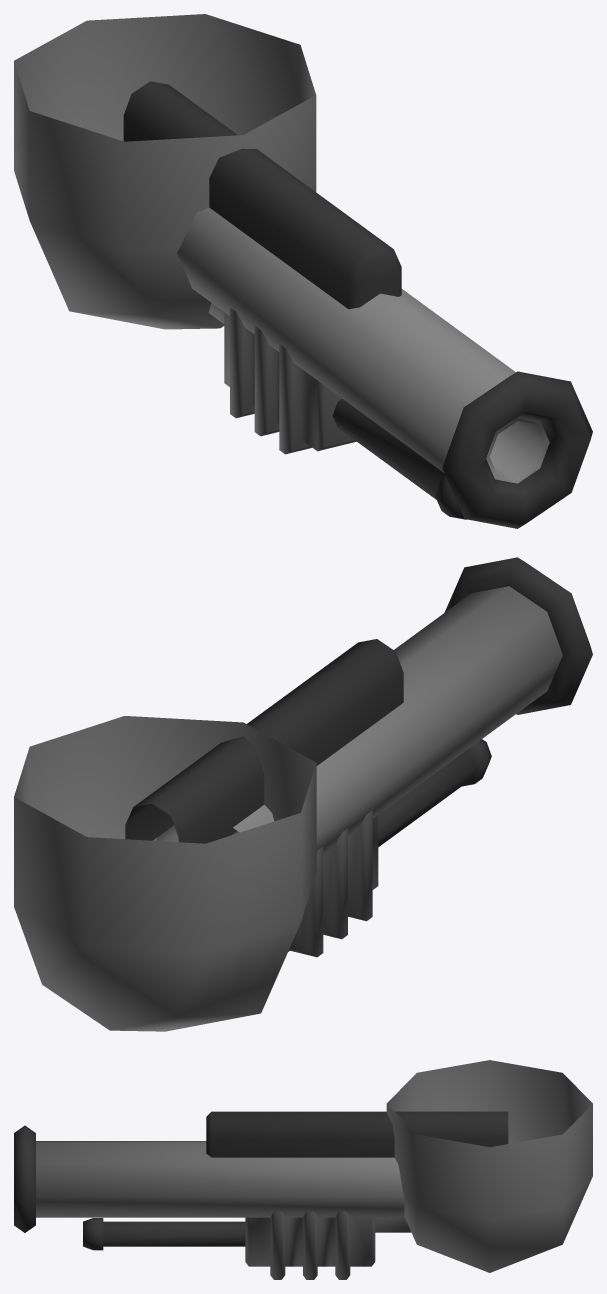
Rendered from Turret_05_H.fbx.
3 views of the same model, one above another, from view 1: azimuth 30°, elevation 25°; view 2: azimuth 150°, elevation 25°; view 3: azimuth 270°, elevation 25° (orthographic). The views are drawn at different scales.
Visible parts, largest first — view 1: Object003; view 2: Object003; view 3: Object003.
Part boxes in pixels (box(x1,y1,x2,y2)): Object003: box(14, 14, 592, 528); Object003: box(14, 557, 592, 1031); Object003: box(14, 1060, 592, 1279).
Bounding box in the file's own units: 14.96 × 13.28 × 41.98.
1 material, 1 textured.
